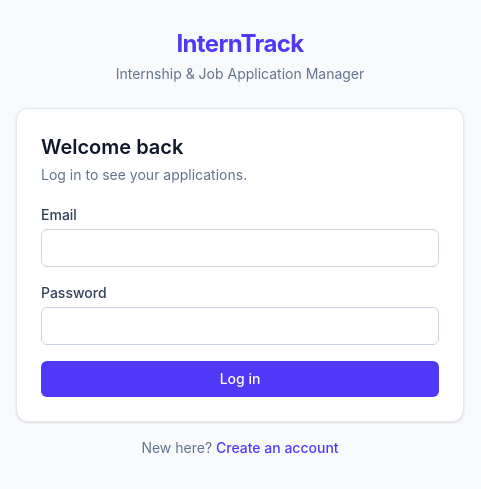
Login page › asks for both fields before calling Firebase
Click the button "Log in".
click(240, 379)  # box [41,361,439,397]
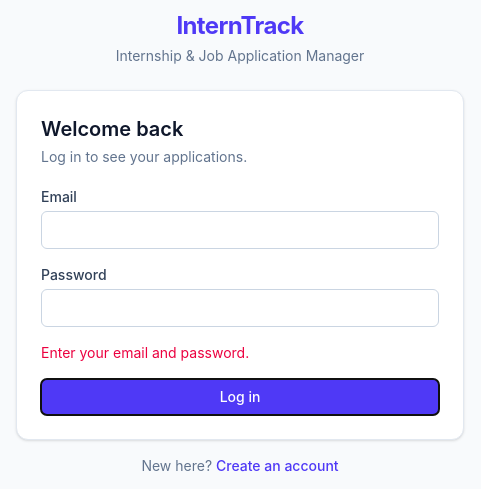
Now the message reads "Enter your email and password.", box [41,344,249,361]
